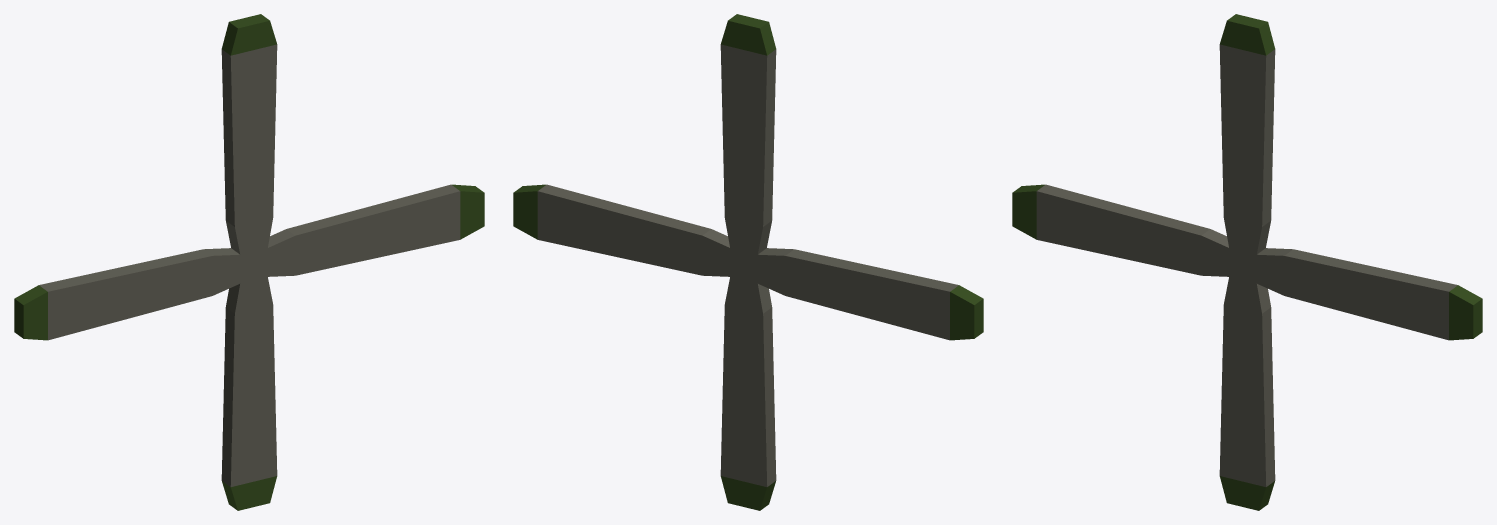
The picture shows the model from 3 angles, left to right: view 1: azimuth 30°, elevation 25°; view 2: azimuth 150°, elevation 25°; view 3: azimuth 330°, elevation 25°; orthographic projection.
Parts seen in each view (by area): view 1: Plane_06_2; view 2: Plane_06_2; view 3: Plane_06_2.
Boxes of the visible parts, x1,y1,x2,y2 form: Plane_06_2: [14, 14, 484, 510]; Plane_06_2: [513, 14, 983, 510]; Plane_06_2: [1012, 14, 1482, 510].
Size of the model in its own units: 1.72 by 1.72 by 0.0587.
